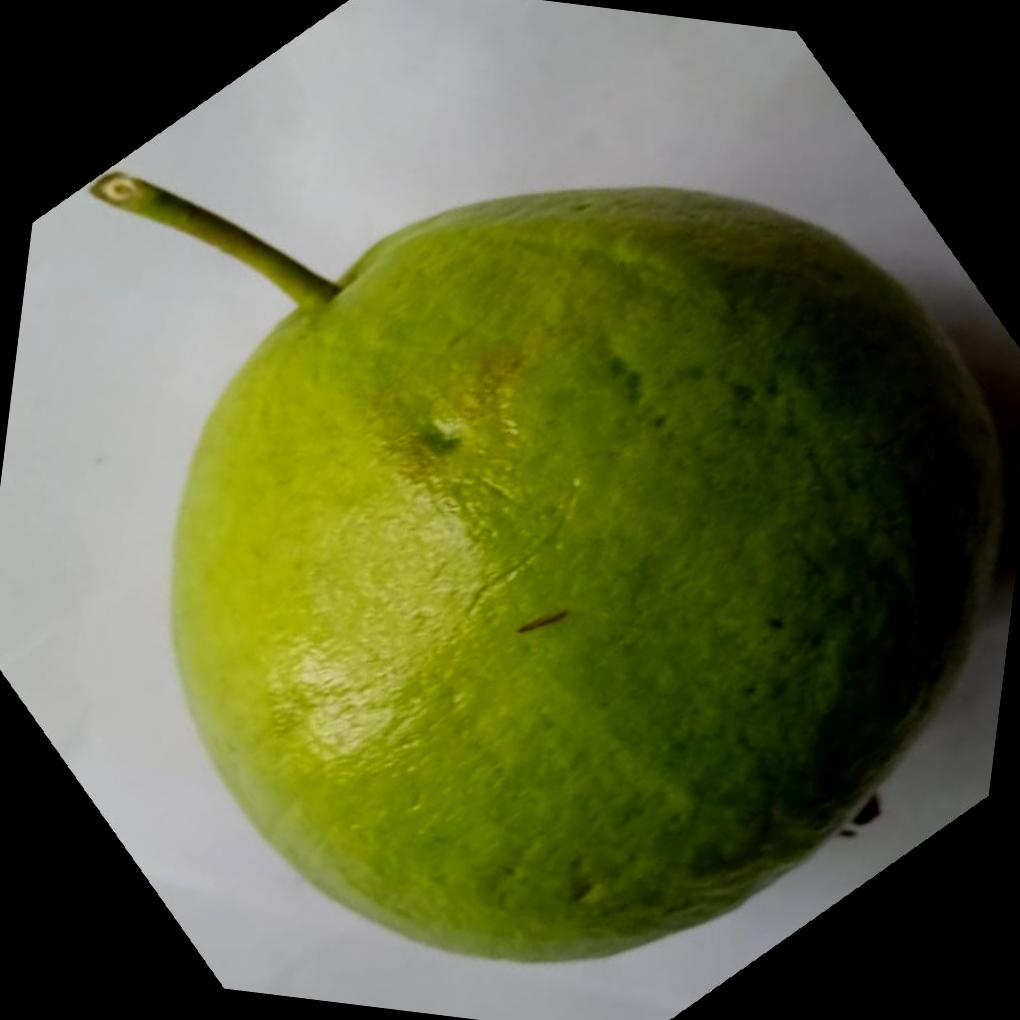FreshGuava: (164, 183, 1003, 967)
